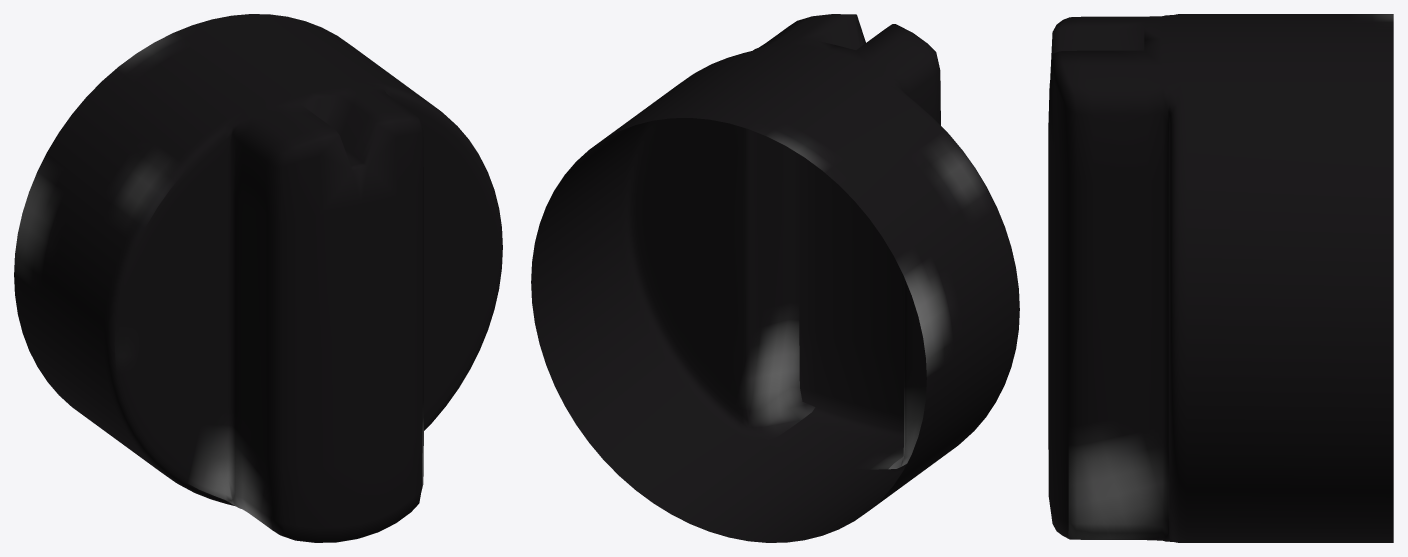
The model's file is knob_rear_right_0.obj.
The picture shows the model from 3 angles, left to right: view 1: azimuth 30°, elevation 25°; view 2: azimuth 150°, elevation 25°; view 3: azimuth 270°, elevation 25°; orthographic projection. The views are drawn at different scales.
Bounding box in the file's own units: 0.0382 × 0.0382 × 0.0249.
